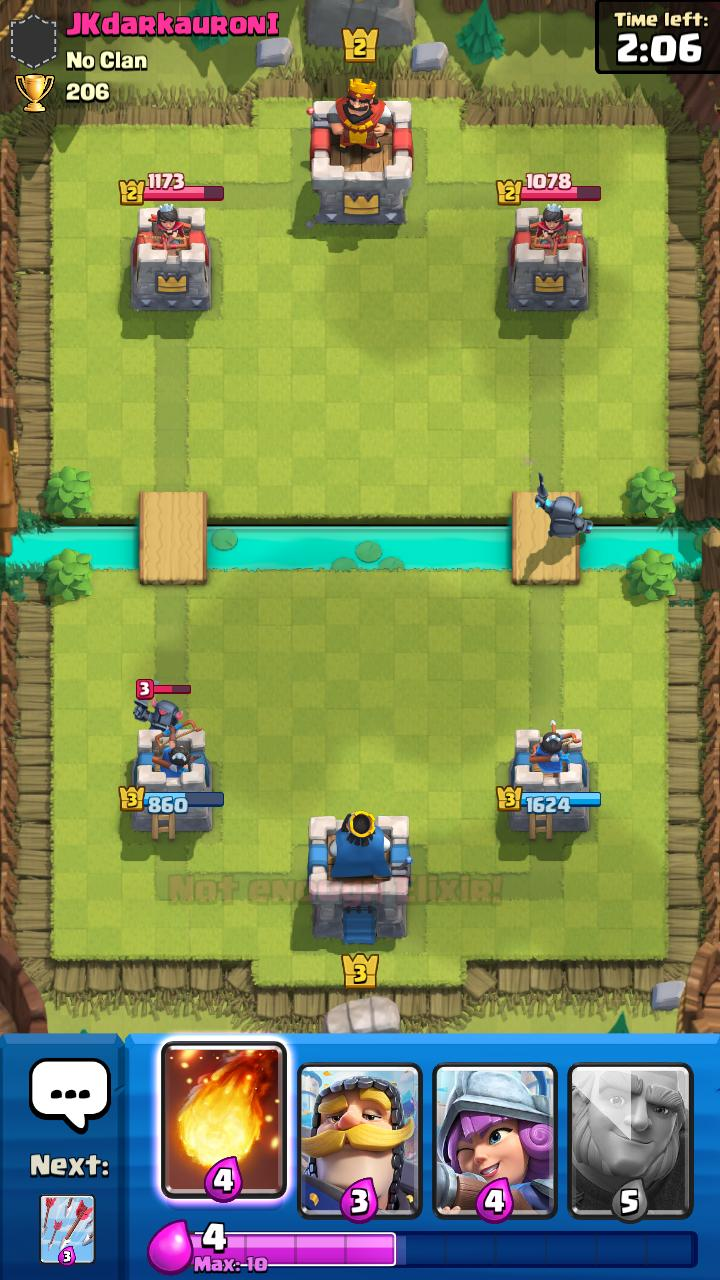ally: (534, 472, 593, 538)
enemy: (133, 679, 191, 732)
